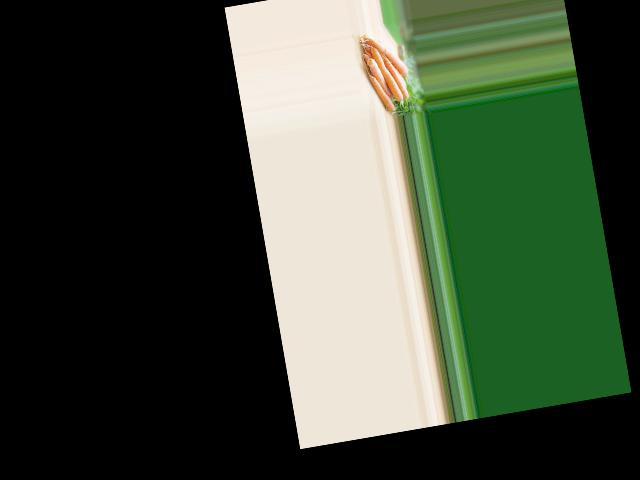carrot: (361, 68, 394, 117)
